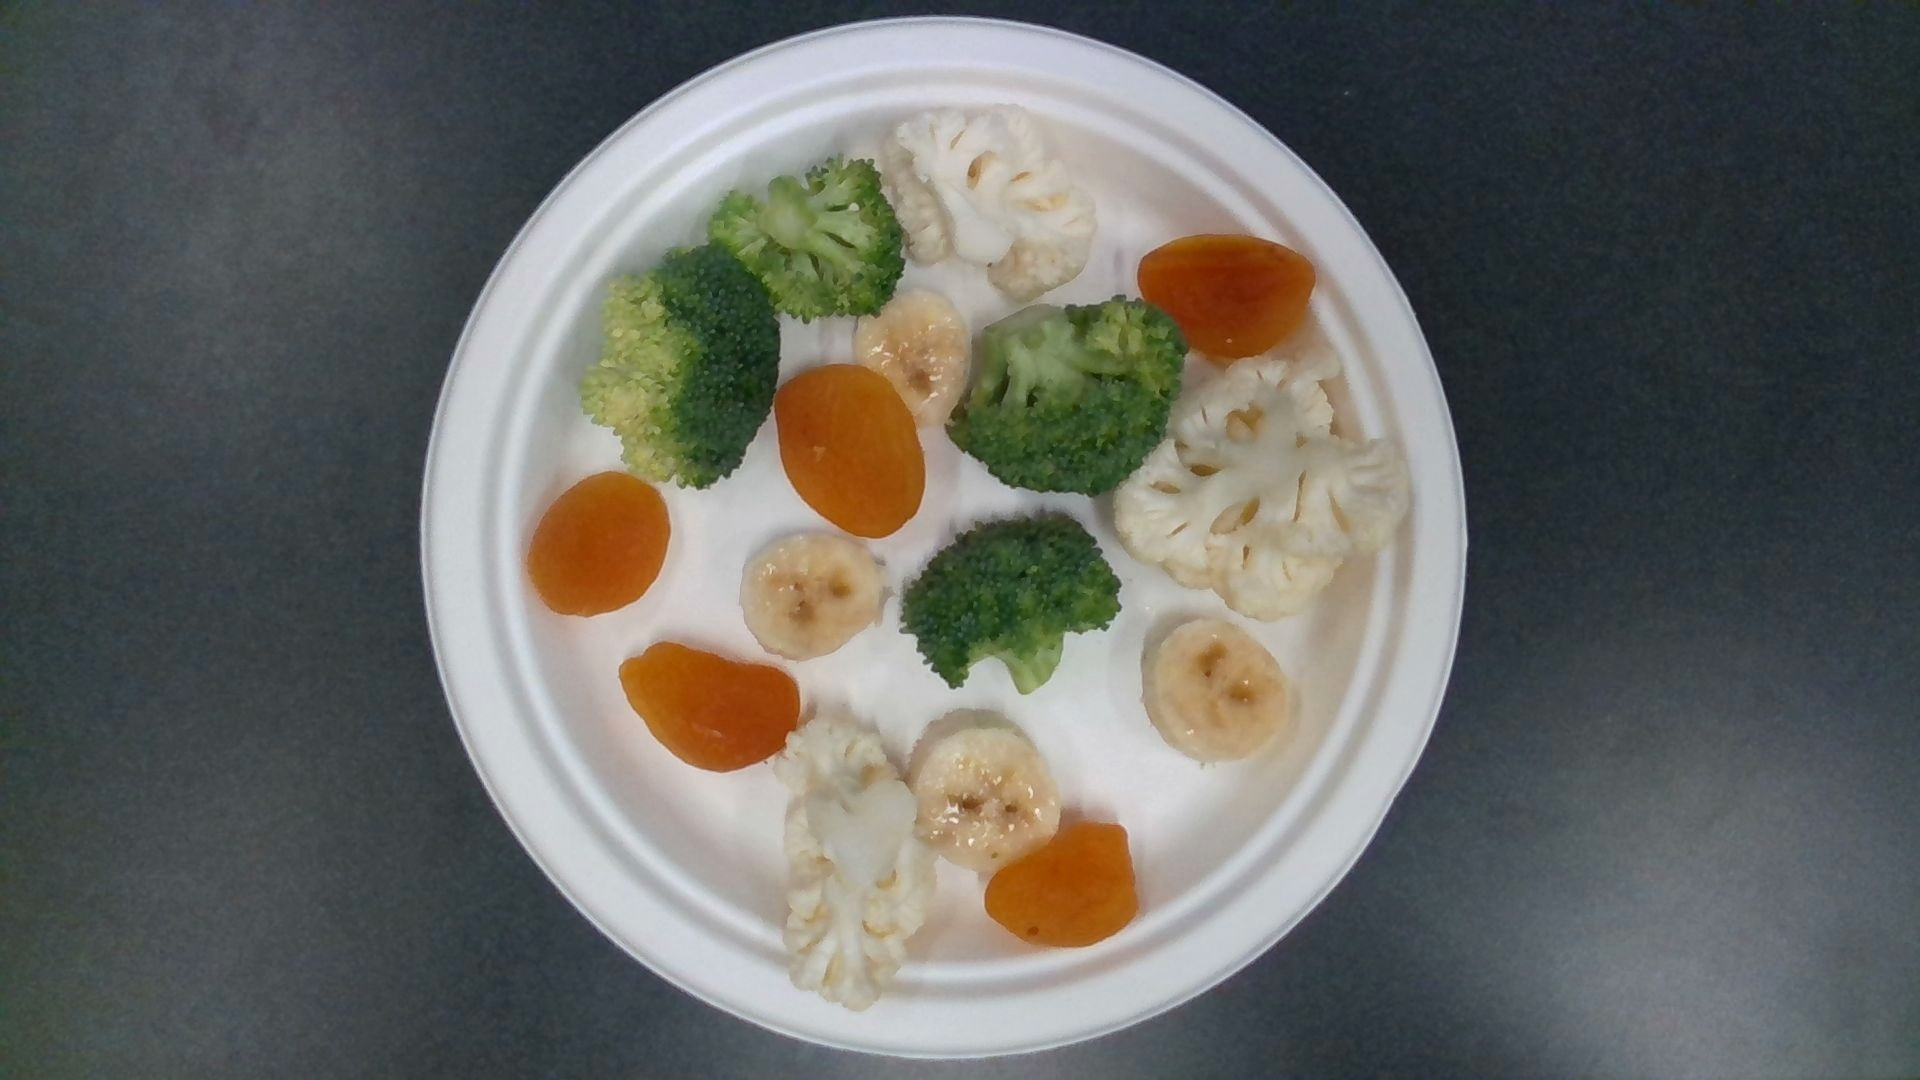apricot: (775, 367, 924, 535), (620, 644, 799, 770), (1135, 236, 1315, 361), (531, 475, 669, 616), (986, 825, 1139, 945)
banana: (910, 715, 1059, 870), (1142, 622, 1290, 760), (742, 533, 885, 658), (855, 293, 969, 419)
broccoli: (580, 248, 779, 488), (949, 303, 1184, 488), (899, 516, 1120, 691), (707, 161, 905, 320)
cauliflower: (1116, 360, 1412, 615), (844, 109, 1089, 295), (777, 725, 924, 1007)
